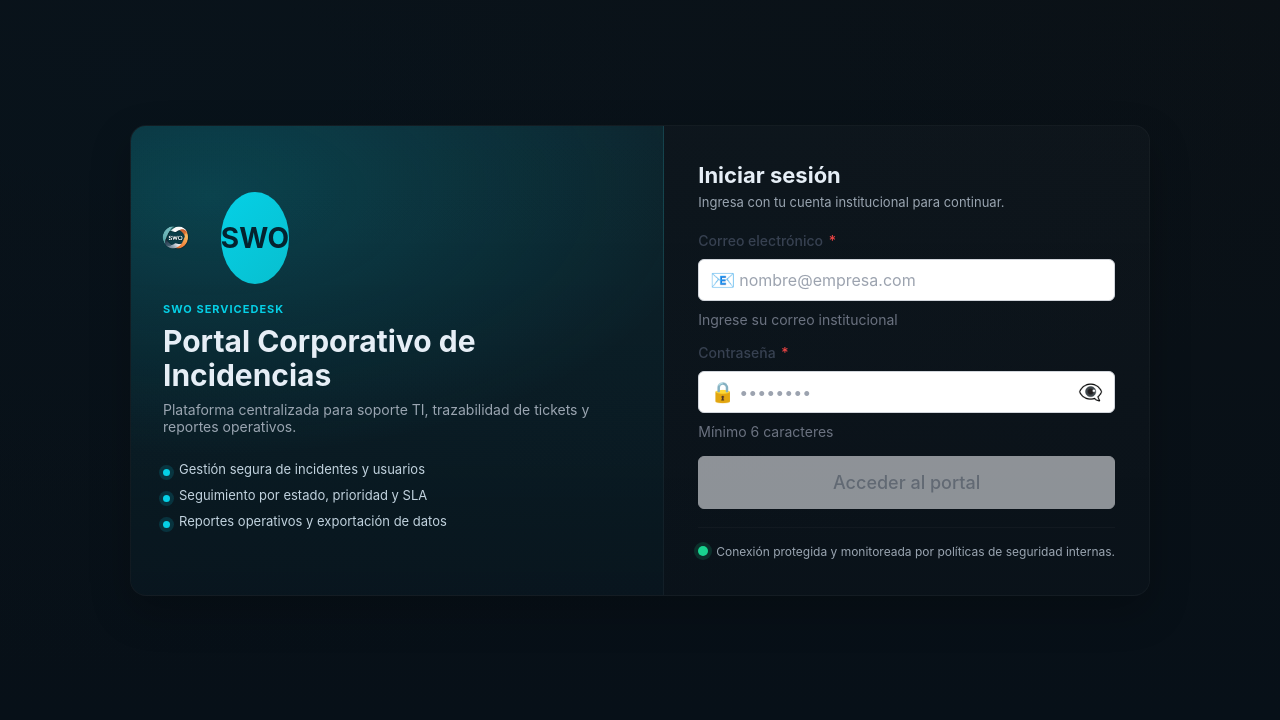
Test case: SWO CP-001 — Resolver incidente con notas técnicas obligatorias en modo offline › 4. Validación — Notas técnicas obligatorias › CP-001-07: no debe permitir resolver con campo de resolución vacío
Type "master@swo.com" into the field named "email" at (907, 280), box [698,259,1115,301]
Type "123456" into the password field named "password" at (907, 392), box [698,371,1115,413]
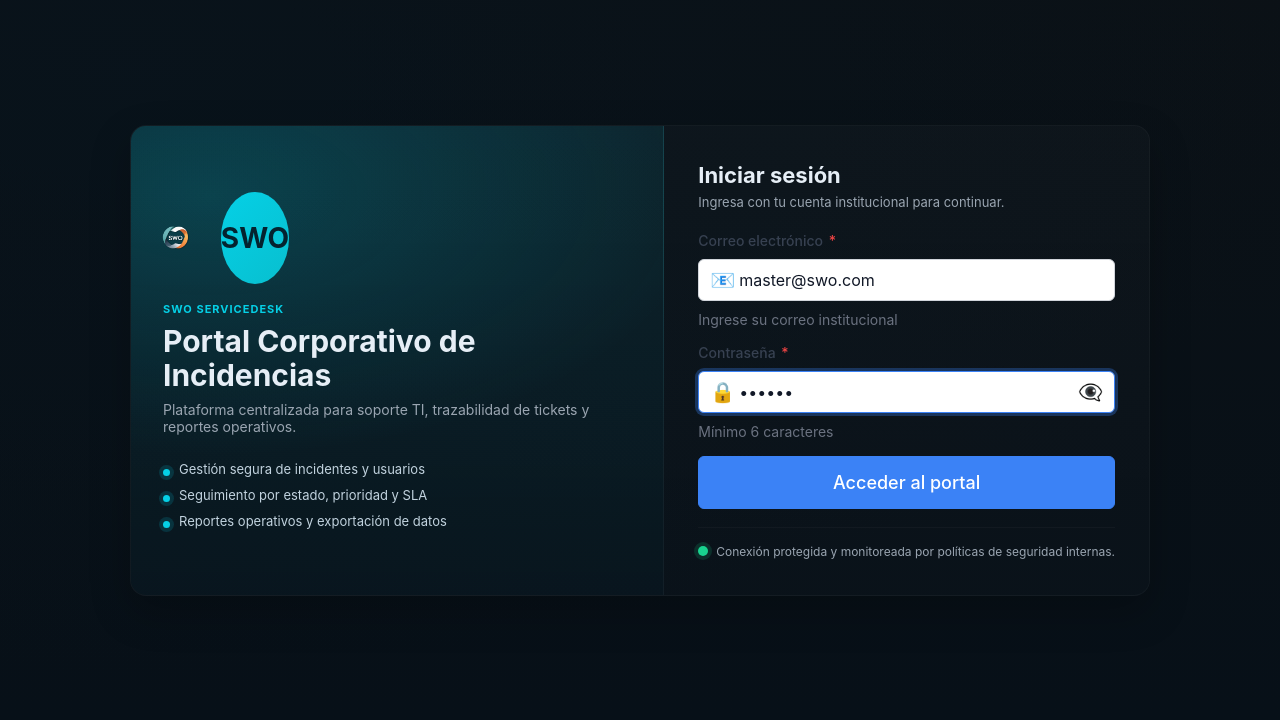
Click the submit button at (907, 483), box [698,456,1115,509]
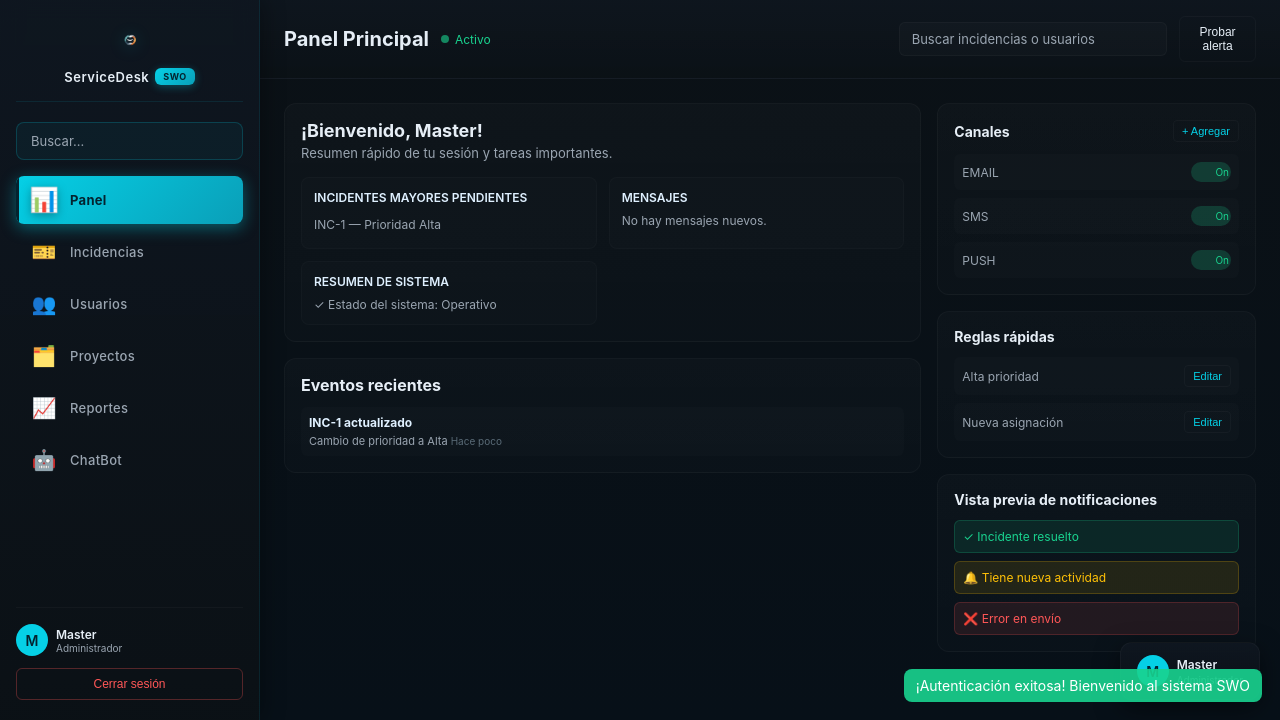
Click the link "🎫 Incidencias" at (89, 252), box [32,240,145,264]
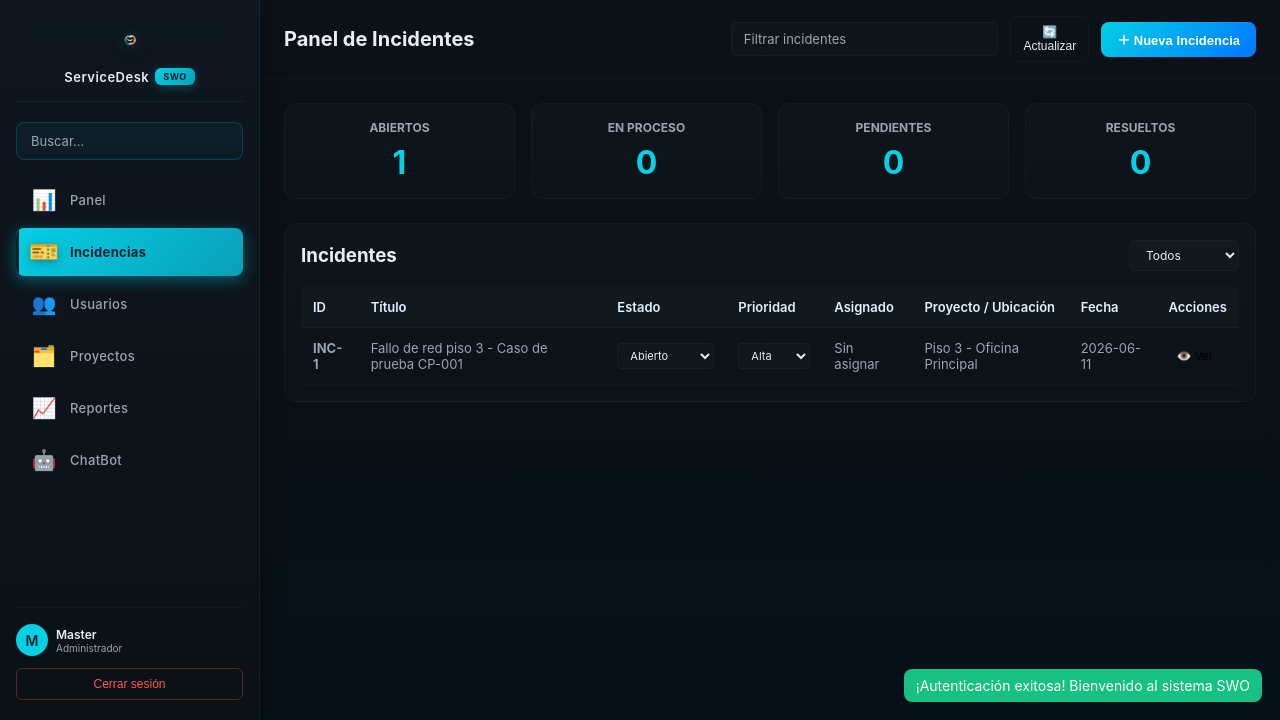
Click the button "👁️ Ver" at (1194, 356), box [1168,345,1220,367]
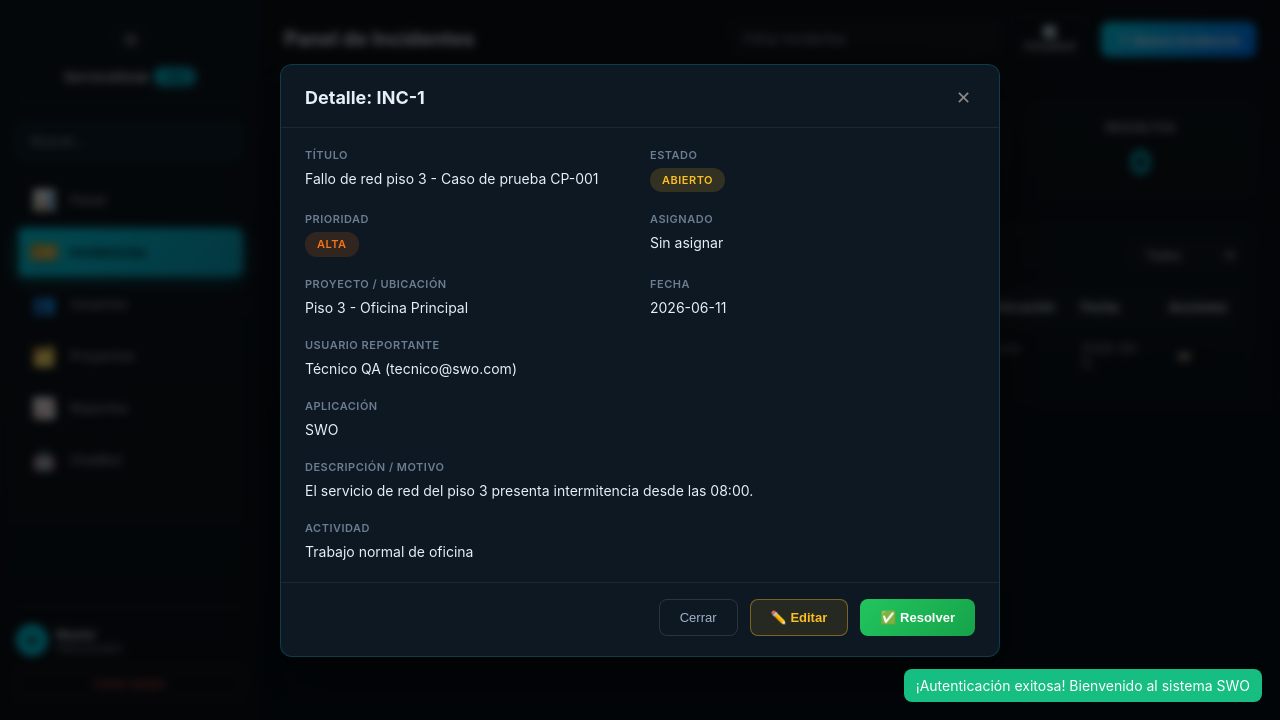
Expected: the element with class "modal-card" is shown, [280,64,1000,657]
Click the button with class "btn-resolver" at (918, 618), box [860,599,975,636]
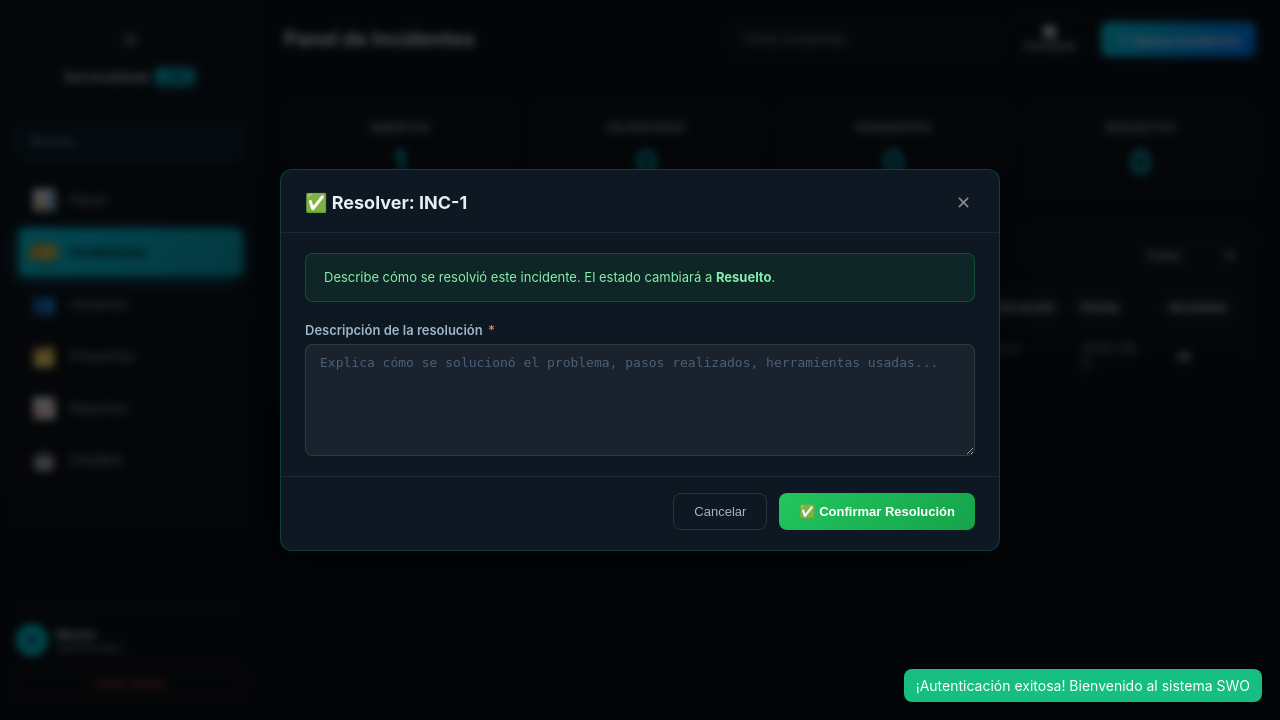
Expected: the element with class "resolucion-banner" is shown, [305,253,975,303]
Click the button with class "btn-resolver-confirm" at (877, 512), box [779,493,975,530]
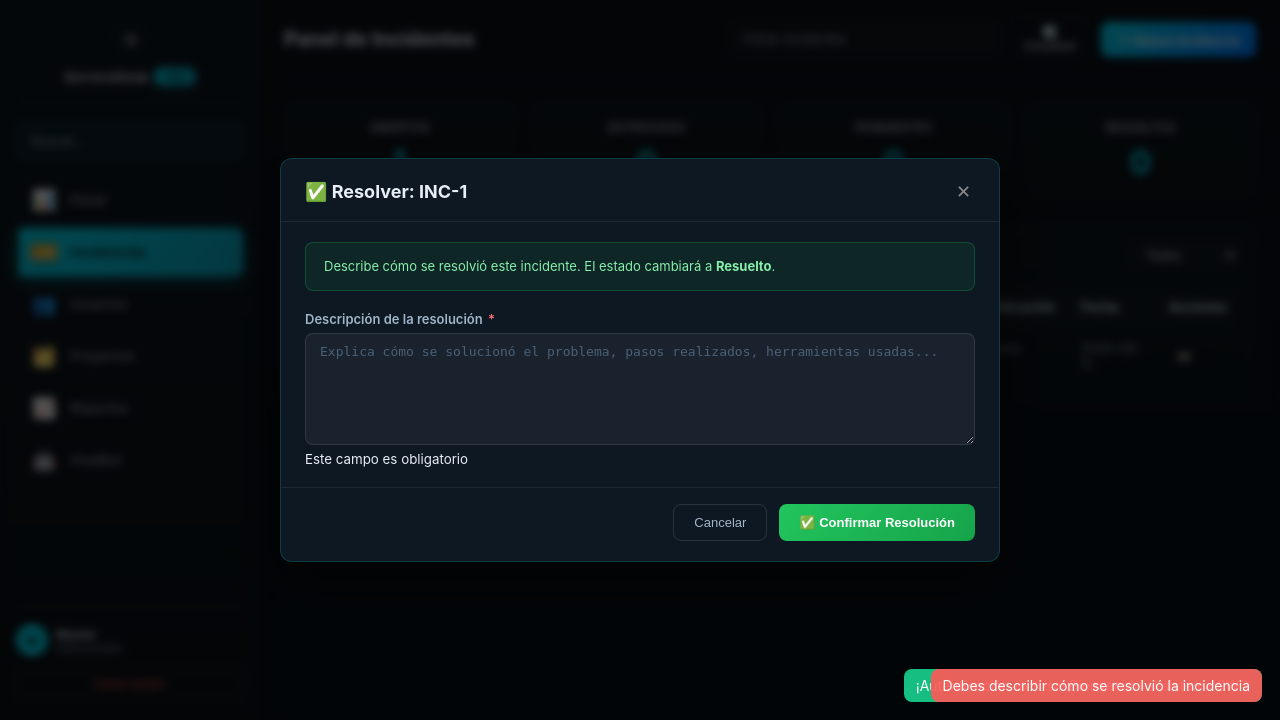
Expected: the element with class "modal-card" is shown, [280,158,1000,563]
Expected: the text with class "error-text" shows "obligatorio", [305,451,468,467]
